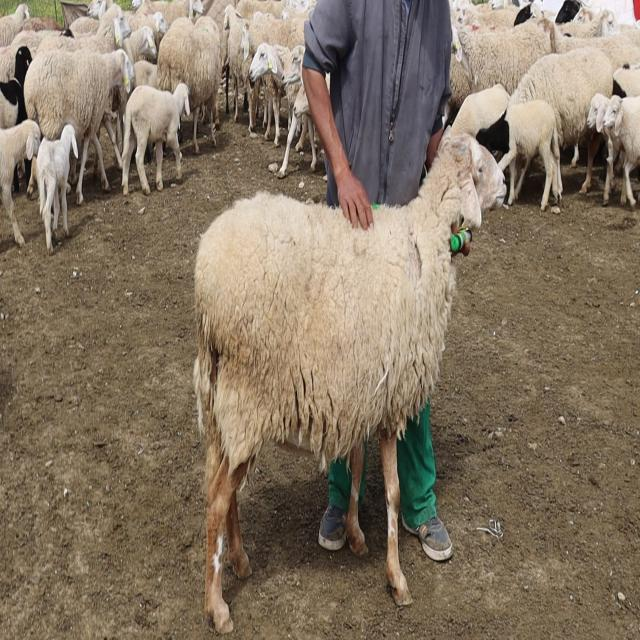Score_3: (193, 134, 506, 632)
